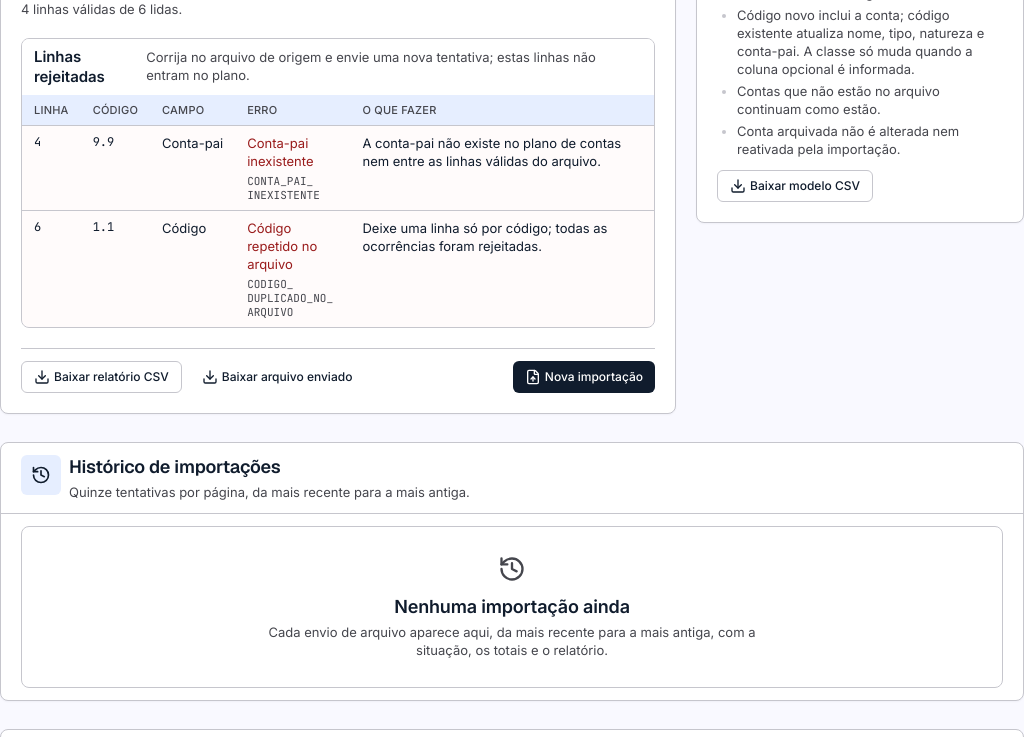
Scenario: download que falhou › o botão diz o que vai tentar de novo
(page scrolled)
Click the button "Baixar relatório CSV" at (101, 377), box [21,361,182,393]
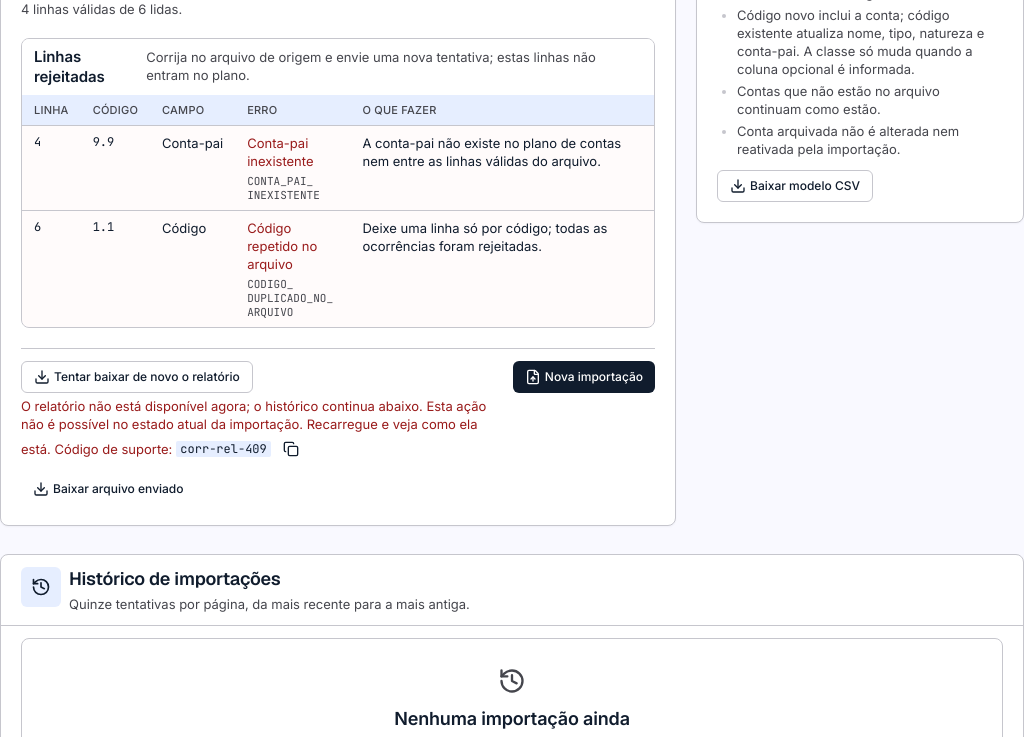
Expected: the button "Tentar baixar de novo o relatório" is shown, [21,361,253,393]
Click the button "Baixar arquivo enviado" at (108, 489), box [21,473,196,505]
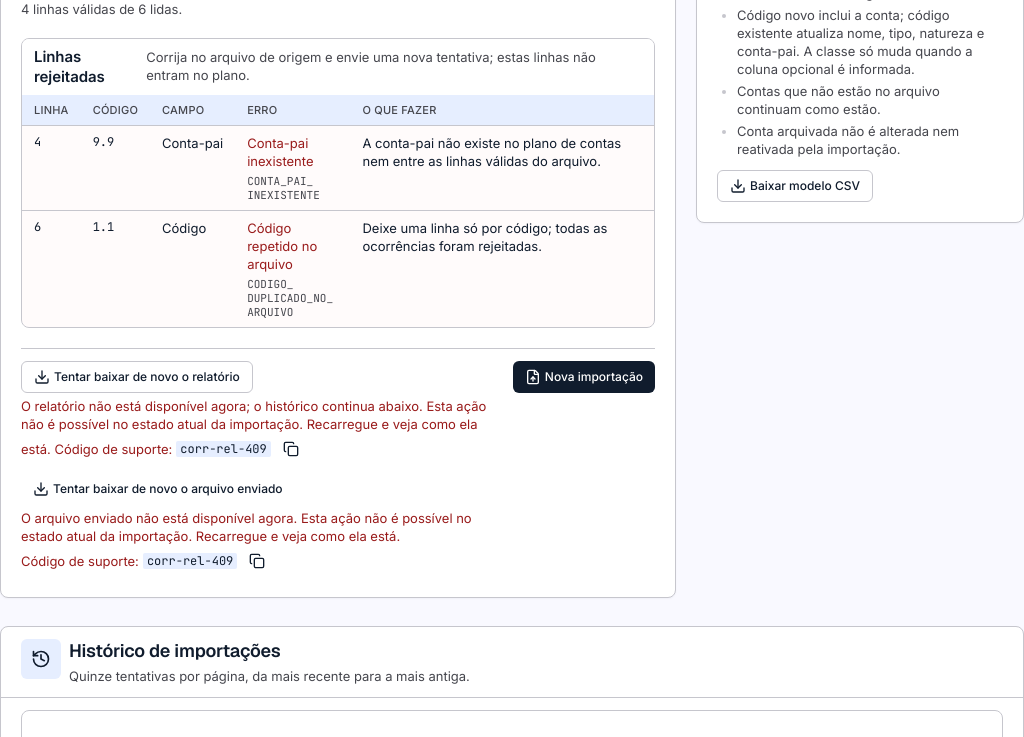
Expected: the button "Tentar baixar de novo o arquivo enviado" is shown, [21,473,295,505]
